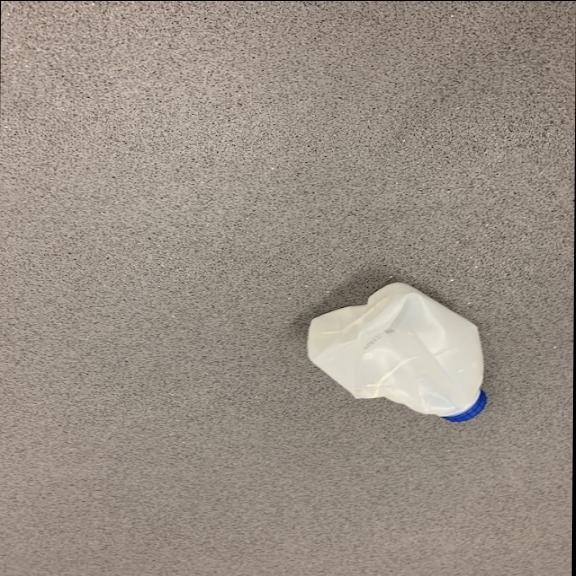Plastik: (297, 275, 489, 423)
